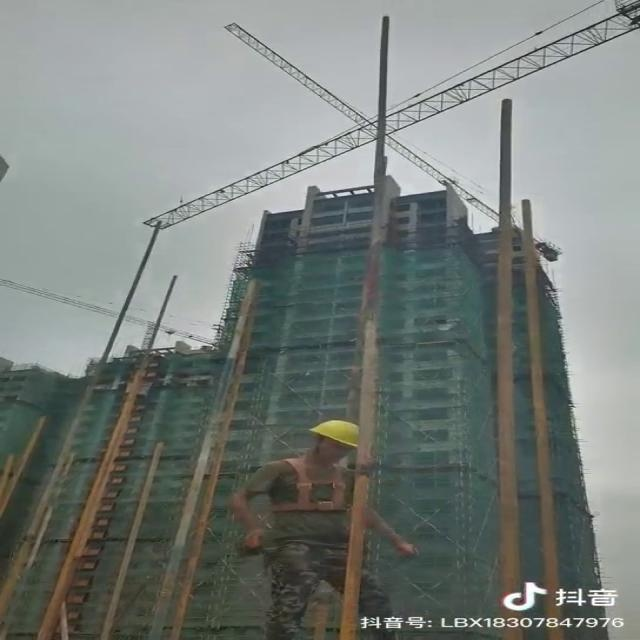Arnes_seguridad: (259, 455, 359, 527)
